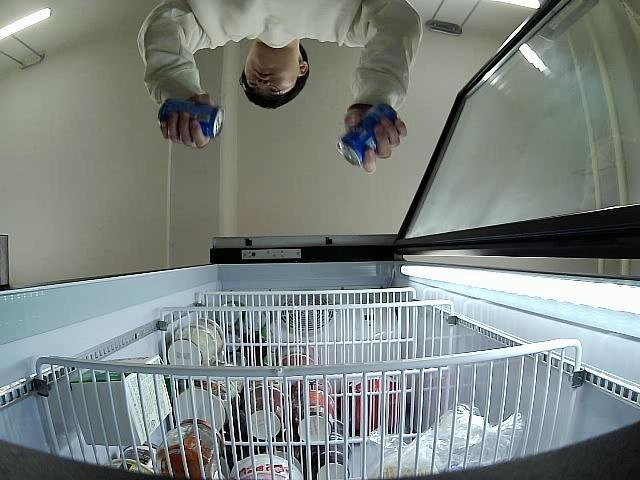15_letsbe: (336, 104, 399, 166), (158, 98, 222, 140)
